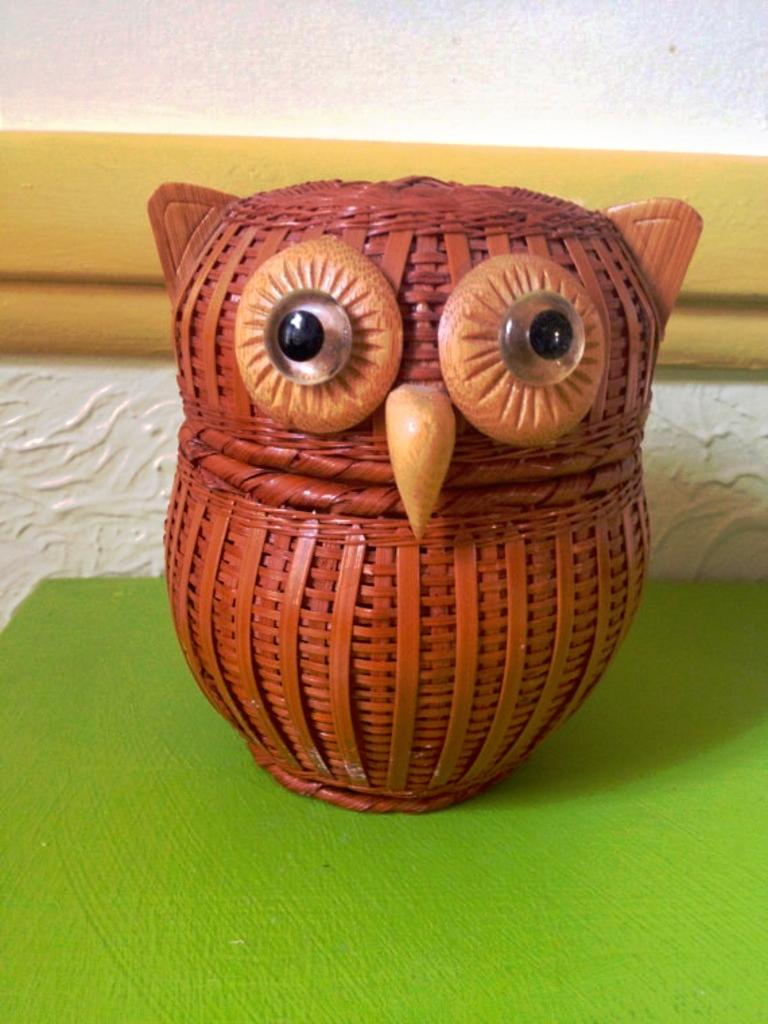Owl: (144, 176, 709, 820)
